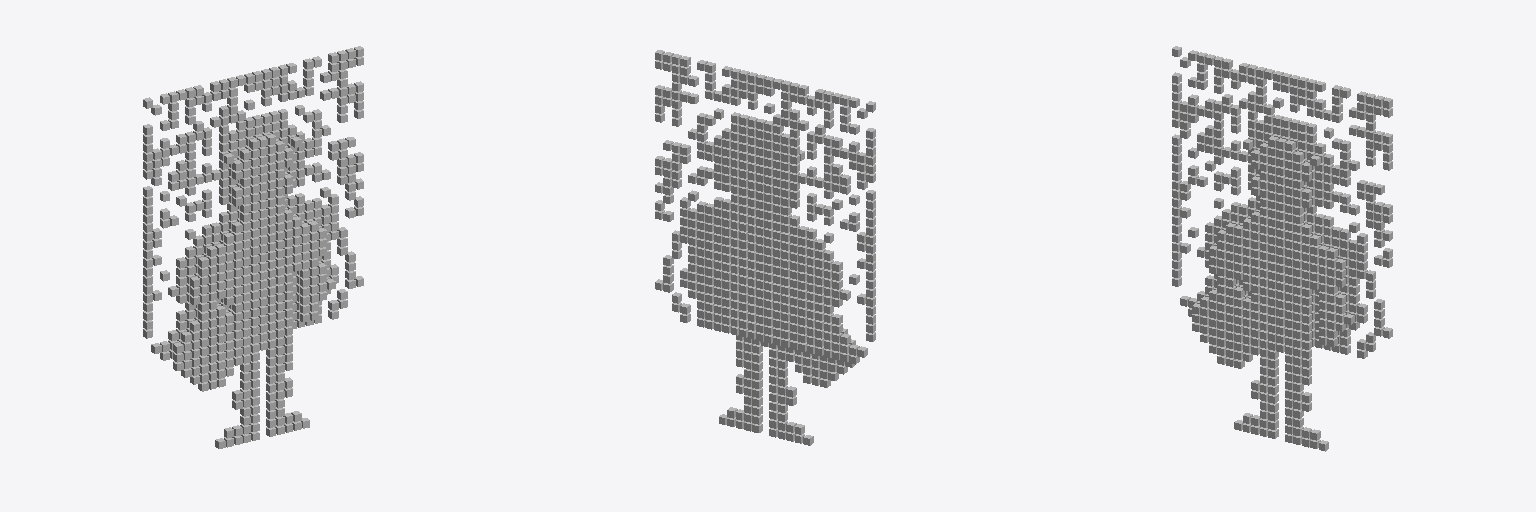
File: amc.cube.obj
3 views of the same model, side by side, from view 1: azimuth 30°, elevation 25°; view 2: azimuth 150°, elevation 25°; view 3: azimuth 330°, elevation 25° (orthographic).
Bounding box in the file's own units: 25.8 × 40.8 × 1.8.